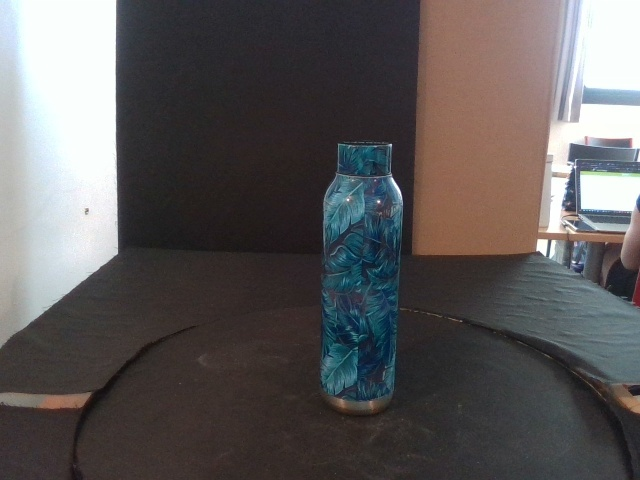bottle: (322, 142, 403, 415)
